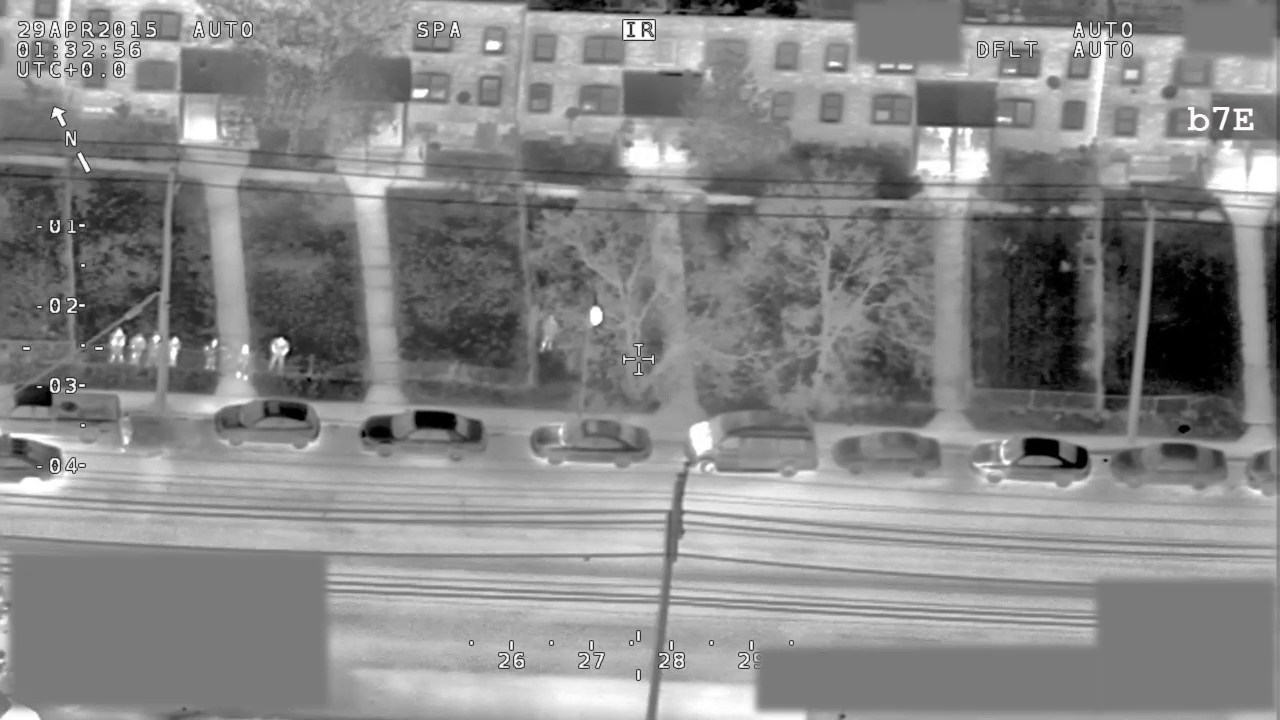vehicle: (683, 409, 821, 476), (1, 382, 126, 447), (355, 408, 490, 464), (966, 433, 1092, 490), (526, 414, 654, 469), (211, 395, 324, 455), (1109, 443, 1232, 491), (832, 431, 943, 475), (1, 436, 63, 489), (1245, 443, 1280, 497)
